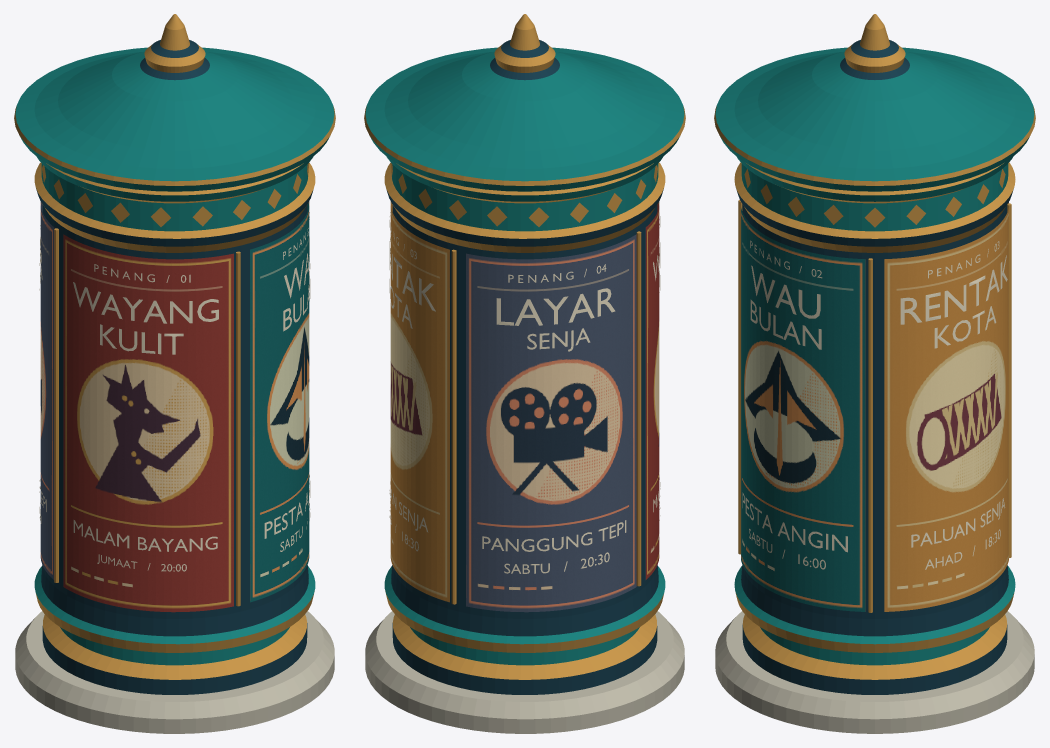
3 renders of one model, left to right at view 1: azimuth 30°, elevation 25°; view 2: azimuth 150°, elevation 25°; view 3: azimuth 270°, elevation 25°, orthographic.
Parts seen in each view (by area): view 1: Illustrated Paper Panels, Enamelled Drum, Pagoda Crown, Letterpress Titles, Brass Poster Beads, Frieze Rosettes; view 2: Illustrated Paper Panels, Enamelled Drum, Pagoda Crown, Letterpress Titles, Brass Poster Beads, Frieze Rosettes; view 3: Illustrated Paper Panels, Enamelled Drum, Pagoda Crown, Letterpress Titles, Brass Poster Beads, Frieze Rosettes.
Part boxes in pixels (x1=…): Illustrated Paper Panels: x1=40, y1=201, x2=309, y2=612; Enamelled Drum: x1=15, y1=156, x2=334, y2=733; Pagoda Crown: x1=14, y1=14, x2=335, y2=191; Letterpress Titles: x1=39, y1=212, x2=310, y2=571; Brass Poster Beads: x1=54, y1=228, x2=240, y2=606; Frieze Rosettes: x1=41, y1=163, x2=309, y2=226; Illustrated Paper Panels: x1=390, y1=201, x2=659, y2=612; Enamelled Drum: x1=365, y1=156, x2=684, y2=733; Pagoda Crown: x1=364, y1=14, x2=685, y2=191; Letterpress Titles: x1=389, y1=212, x2=660, y2=573; Brass Poster Beads: x1=451, y1=231, x2=641, y2=604; Frieze Rosettes: x1=390, y1=163, x2=658, y2=226; Illustrated Paper Panels: x1=741, y1=202, x2=1008, y2=611; Enamelled Drum: x1=715, y1=156, x2=1034, y2=733; Pagoda Crown: x1=714, y1=14, x2=1035, y2=191; Letterpress Titles: x1=742, y1=240, x2=1007, y2=569; Brass Poster Beads: x1=738, y1=200, x2=1011, y2=612; Frieze Rosettes: x1=744, y1=169, x2=1005, y2=227.
Size of the model in its own units: 1.17 by 2.61 by 1.17.
6 materials, 1 textured.
